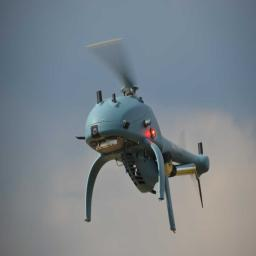helicopter: (76, 41, 209, 236)
